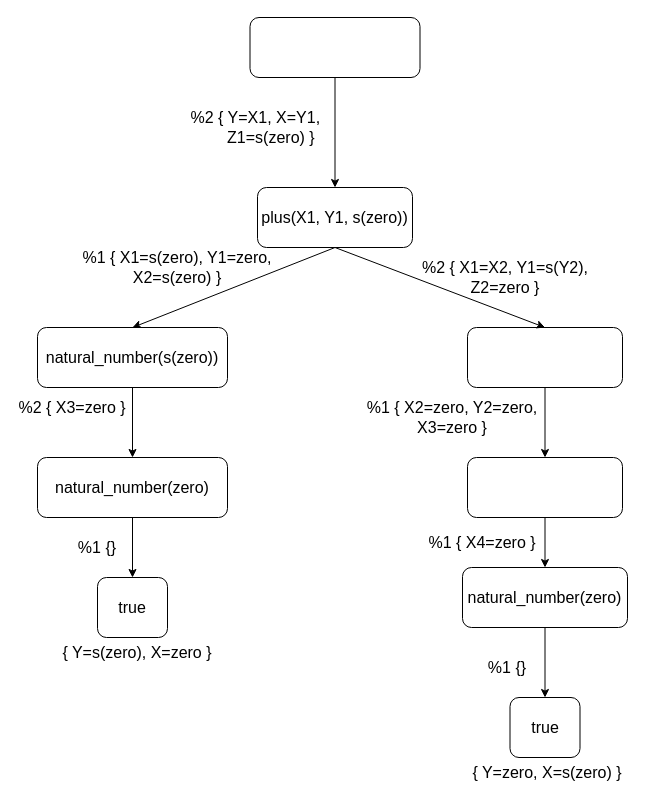
This 645x805 diagram has some shape labels left out. Each missing label, with the centre of its shape:
plus(X2, Y2, zero): point (544, 357)
plus(Y, s(X), s(s(zero))): point (334, 47)
plus(zero, zero, zero): point (544, 487)
